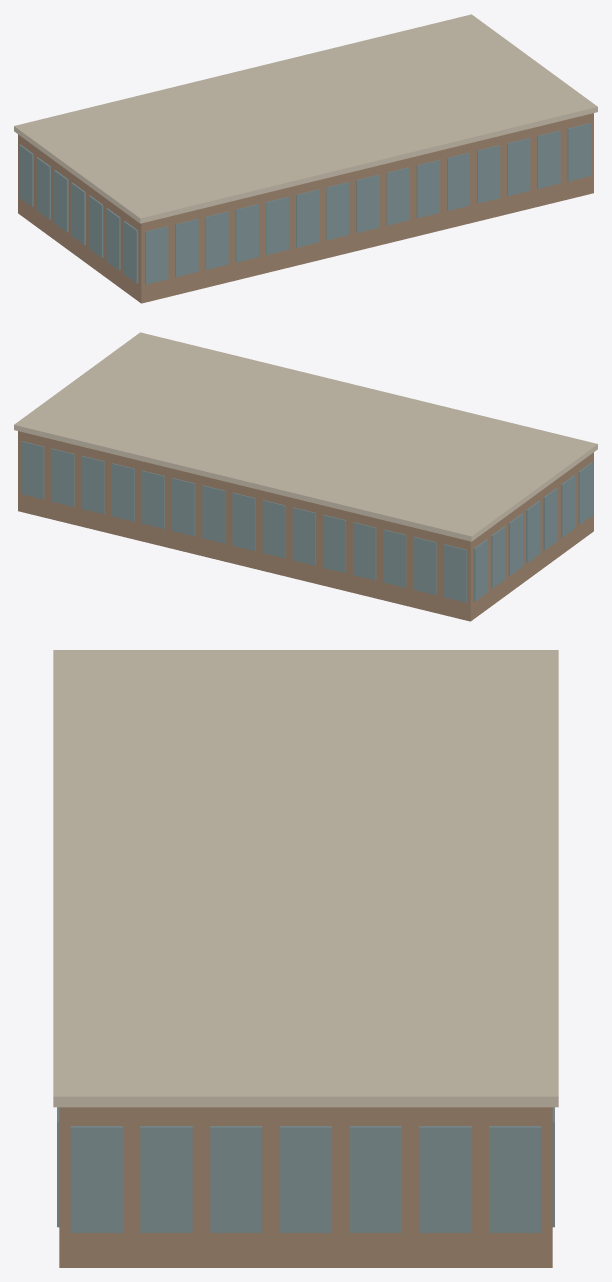
Rendered from palast-study.gltf.
3 renders of one model, top to bottom at view 1: azimuth 30°, elevation 25°; view 2: azimuth 150°, elevation 25°; view 3: azimuth 270°, elevation 25°, orthographic. The views are drawn at different scales.
Size of the model in its own units: 182 by 33 by 87.
